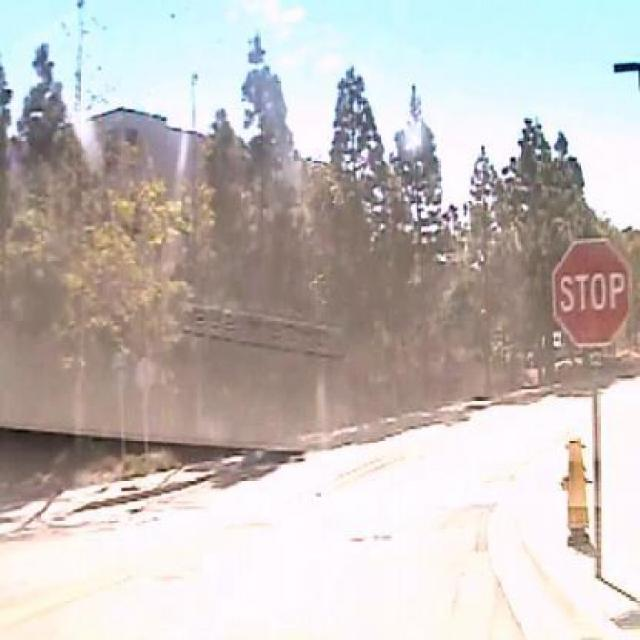Stop: (550, 236, 633, 350)
